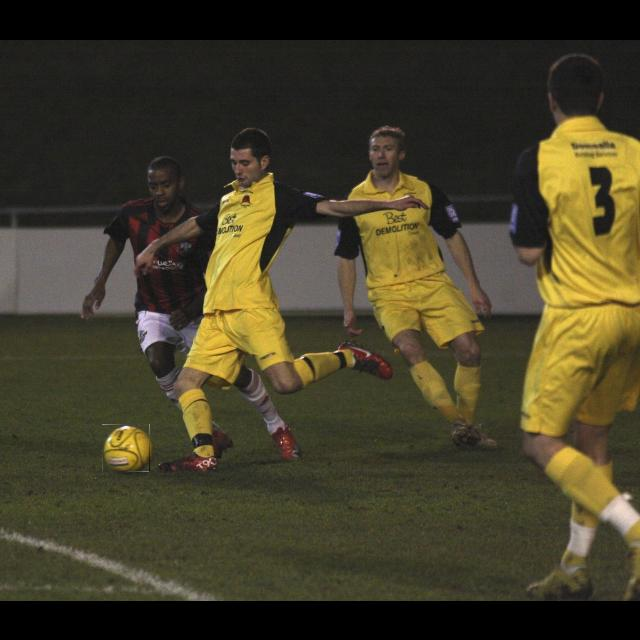Football: (102, 424, 150, 472)
